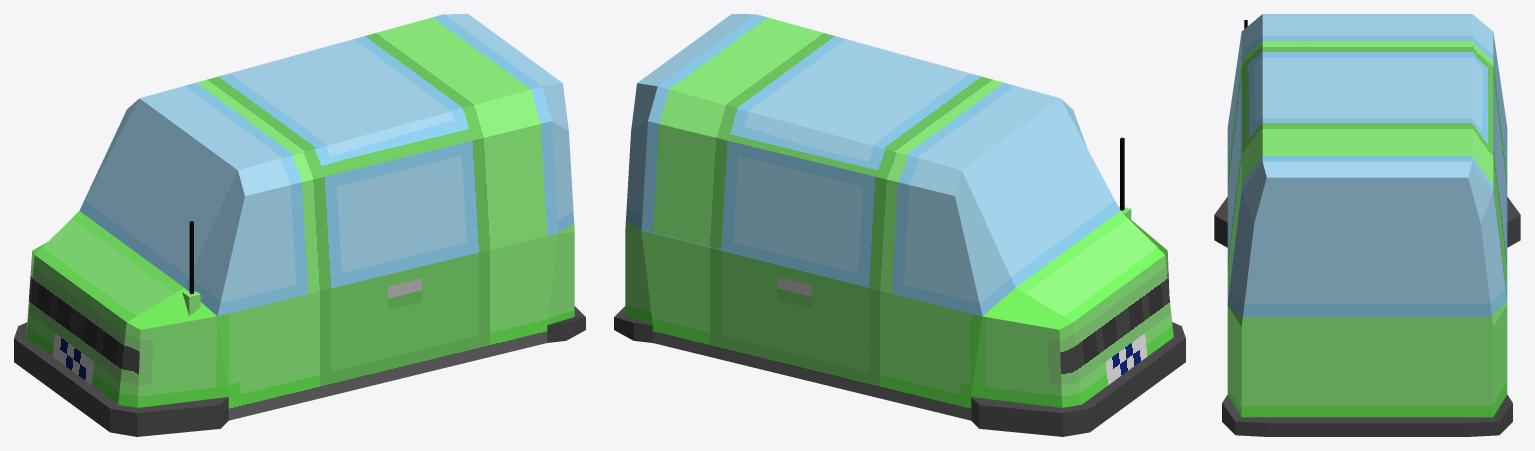
The model's file is car.gltf.
The picture shows the model from 3 angles, left to right: view 1: azimuth 30°, elevation 25°; view 2: azimuth 150°, elevation 25°; view 3: azimuth 270°, elevation 25°; orthographic projection. The views are drawn at different scales.
Parts seen in each view (by area): view 1: cube; view 2: cube; view 3: cube.
Boxes of the visible parts, box(x1,y1,x2,y2) form: cube: box(14, 14, 585, 436); cube: box(614, 14, 1185, 436); cube: box(1214, 14, 1520, 436).
Bounding box in the file's own units: 2.56 × 1.27 × 1.37.
2 materials, 2 textured.
